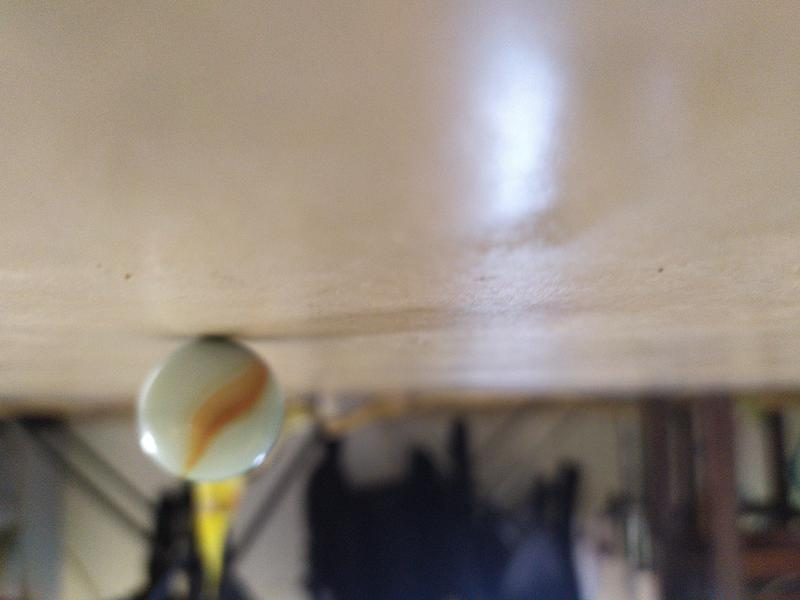Warning: (132, 330, 288, 485)
